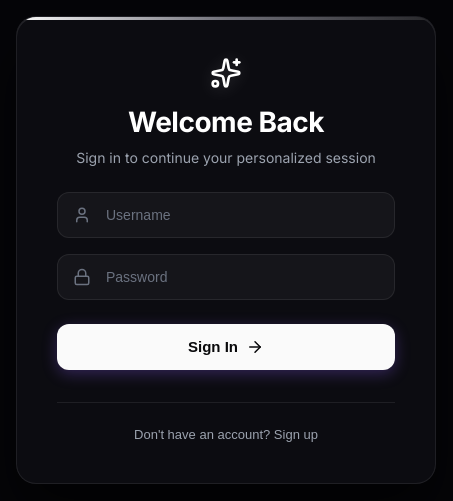
Scenario: AuthPage › shows 'Join Nova' heading after switching to register mode
(page scrolled)
Click the button "Don't have an account? Sign up".
click(226, 434)  # box top-left (128, 426), bottom-right (324, 443)
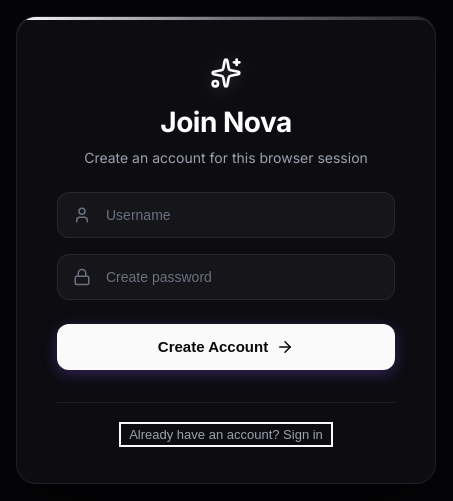
Result: the heading "Join Nova" is shown at top-left (160, 105), bottom-right (292, 139)
